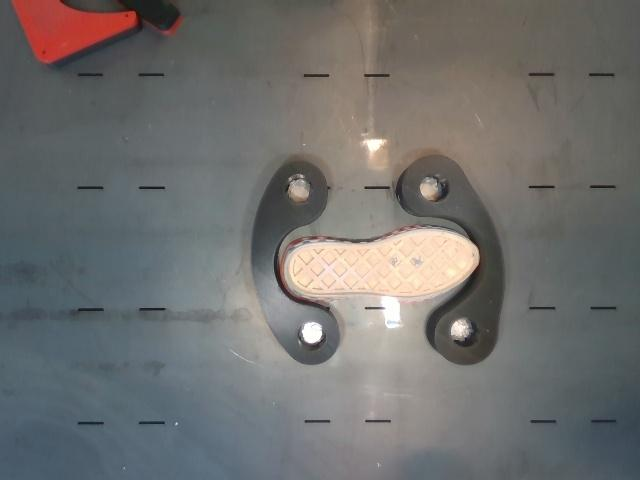shoes: (286, 231, 478, 298)
